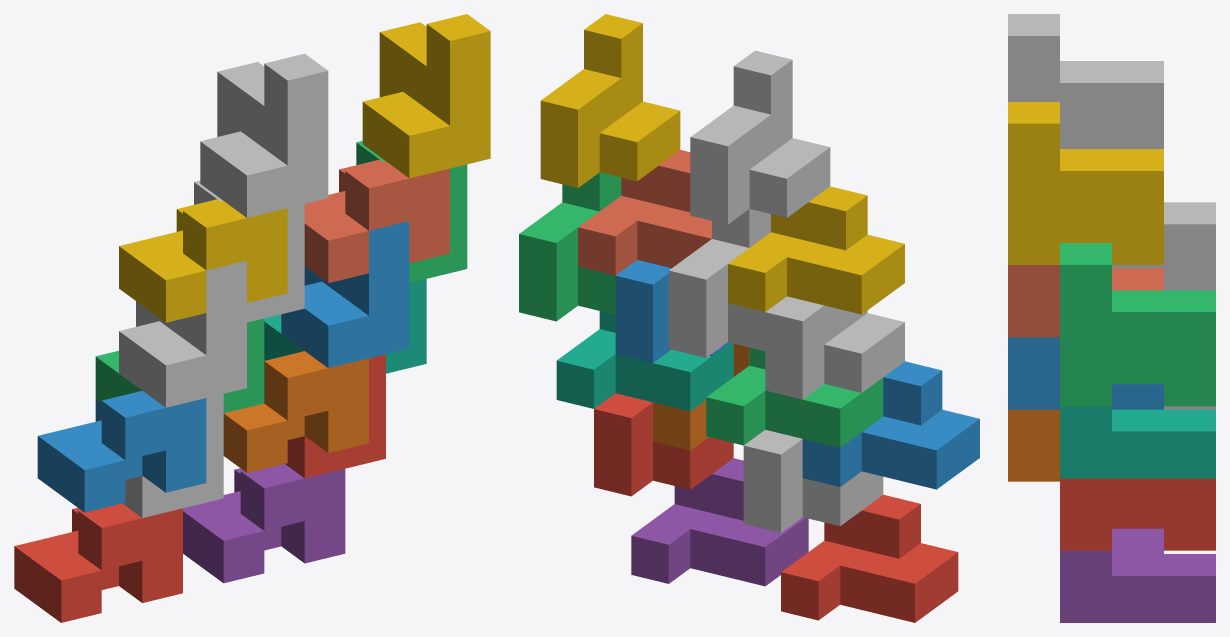
File: tiling.obj
3 renders of one model, left to right at view 1: azimuth 30°, elevation 25°; view 2: azimuth 150°, elevation 25°; view 3: azimuth 270°, elevation 25°, orthographic. The views are drawn at different scales.
Visible parts, largest first — view 1: copy_2_domain_4, copy_2_domain_8, copy_1_domain_2, copy_1_domain_1, copy_1_domain_5, copy_1_domain_4, copy_2_domain_2, copy_1_domain_8, copy_1_domain_6, copy_2_domain_6, copy_2_domain_1, copy_2_domain_5 (+4 smaller); view 2: copy_2_domain_4, copy_2_domain_8, copy_1_domain_1, copy_1_domain_4, copy_1_domain_5, copy_1_domain_2, copy_2_domain_2, copy_1_domain_8, copy_1_domain_3, copy_2_domain_3, copy_1_domain_7, copy_2_domain_7 (+4 smaller); view 3: copy_2_domain_7, copy_2_domain_8, copy_2_domain_4, copy_1_domain_5, copy_1_domain_7, copy_2_domain_5, copy_2_domain_6, copy_1_domain_8, copy_2_domain_3, copy_1_domain_6.
Boxes of the visible parts, x1,y1,x2,y2 form: copy_2_domain_4: (200,53,328,217); copy_2_domain_8: (362,14,490,178); copy_1_domain_2: (37,390,206,512); copy_1_domain_1: (14,503,182,622); copy_1_domain_5: (183,464,345,583); copy_1_domain_4: (119,199,287,322); copy_2_domain_2: (119,260,246,407); copy_1_domain_8: (304,159,449,283); copy_1_domain_6: (223,351,368,472); copy_2_domain_6: (281,221,409,368); copy_2_domain_1: (122,394,223,517); copy_2_domain_5: (285,354,385,478); copy_2_domain_4: (690,50,830,224); copy_2_domain_8: (540,14,680,187); copy_1_domain_1: (781,494,958,622); copy_1_domain_4: (728,186,904,314); copy_1_domain_5: (631,458,808,586); copy_1_domain_2: (802,361,979,489); copy_2_domain_2: (765,296,904,399); copy_1_domain_8: (578,150,711,275); copy_1_domain_3: (706,347,883,447); copy_2_domain_3: (668,209,770,357); copy_1_domain_7: (556,311,733,411); copy_2_domain_7: (519,172,621,321); copy_2_domain_7: (1060,243,1215,406); copy_2_domain_8: (1008,102,1163,264); copy_2_domain_4: (1008,14,1163,148); copy_1_domain_5: (1060,528,1215,622); copy_1_domain_7: (1060,406,1215,478); copy_2_domain_5: (1060,478,1215,550); copy_2_domain_6: (1008,337,1163,409); copy_1_domain_8: (1008,265,1163,337); copy_2_domain_3: (1112,202,1215,290); copy_1_domain_6: (1008,409,1059,481).
Size of the model in its own units: 10 by 12 by 4.
